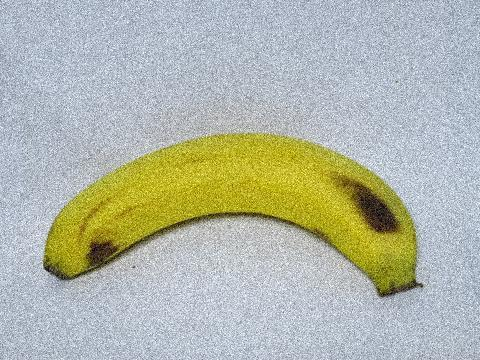freshripe: (30, 121, 435, 312)
